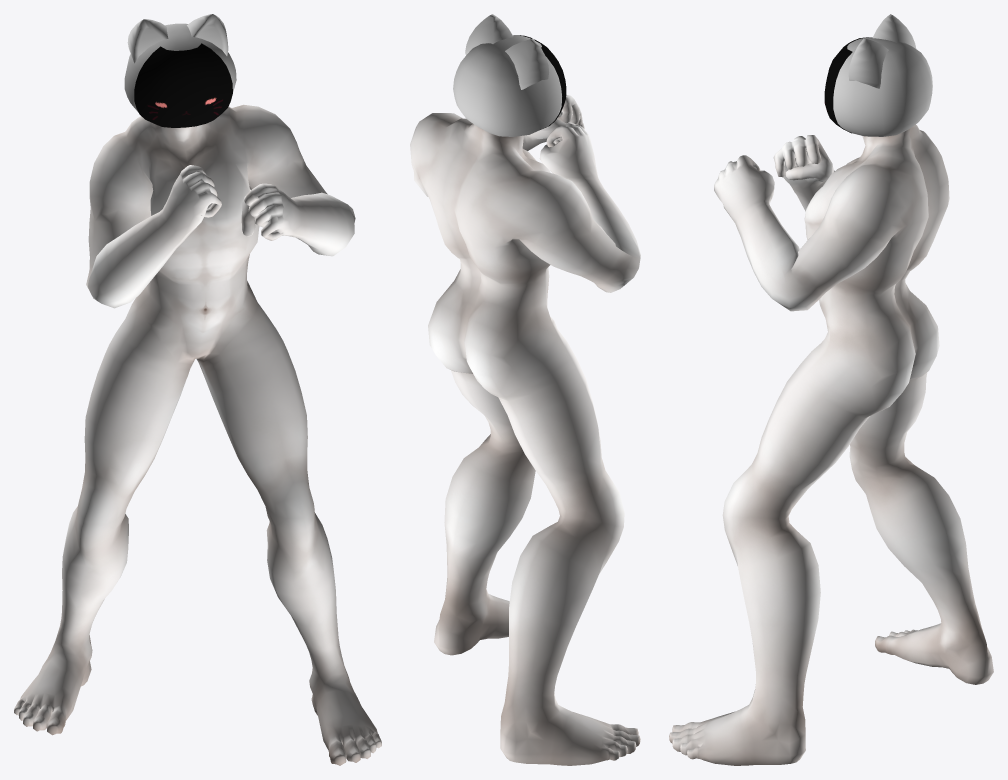
The picture shows the model from 3 angles, left to right: view 1: azimuth 30°, elevation 25°; view 2: azimuth 150°, elevation 25°; view 3: azimuth 270°, elevation 25°; orthographic projection.
Parts seen in each view (by area): view 1: Muscle_Body, ______?001, Cat_Head; view 2: Muscle_Body, Cat_Head, ______?001; view 3: Muscle_Body, Cat_Head, ______?001.
Boxes of the visible parts, box(x1,y1,x2,y2) form: Muscle_Body: box(14, 104, 381, 765); ______?001: box(134, 43, 232, 127); Cat_Head: box(124, 14, 236, 112); Muscle_Body: box(410, 94, 640, 765); Cat_Head: box(453, 14, 561, 136); ______?001: box(513, 35, 566, 128); Muscle_Body: box(669, 124, 993, 765); Cat_Head: box(833, 14, 932, 136); ______?001: box(824, 37, 868, 133).
Bounding box in the file's own units: 11.5 × 28.08 × 12.08.
